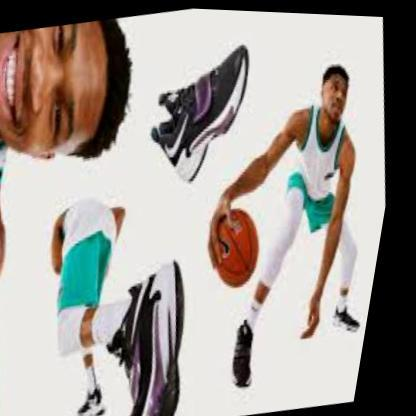basketball: (207, 200, 280, 292)
